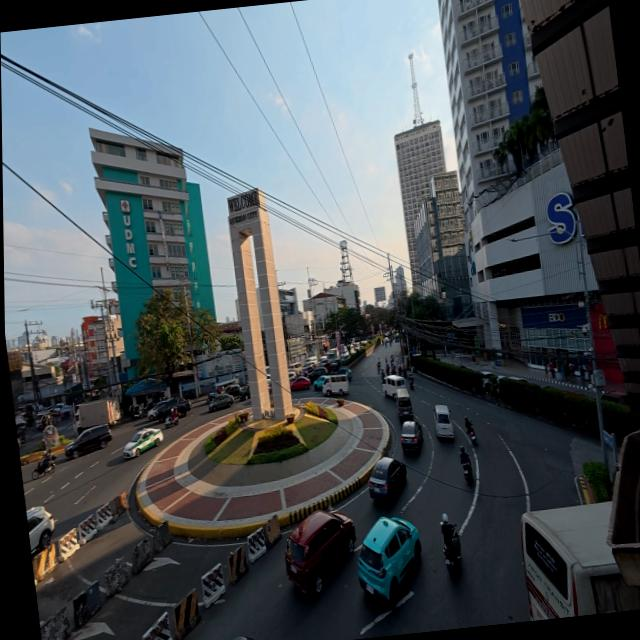bus: (521, 502, 639, 620)
car: (285, 510, 356, 593), (358, 517, 421, 607), (369, 457, 407, 503), (65, 425, 112, 458), (27, 506, 54, 552), (124, 428, 163, 458), (148, 398, 192, 422), (401, 421, 424, 452), (482, 371, 504, 393), (209, 393, 233, 412), (148, 400, 169, 420), (34, 411, 53, 430), (290, 376, 311, 390), (310, 367, 329, 382), (312, 374, 328, 390), (222, 384, 240, 398), (337, 367, 353, 380), (508, 375, 530, 384), (240, 385, 251, 401), (320, 361, 332, 373), (206, 391, 218, 403), (303, 365, 314, 377), (331, 359, 340, 372), (288, 371, 297, 382), (234, 636, 253, 639), (17, 438, 21, 447)
motorcycle: (443, 542, 460, 576), (32, 457, 55, 479), (463, 462, 472, 485), (165, 416, 178, 428), (133, 406, 144, 419), (469, 429, 477, 446), (409, 379, 414, 389), (377, 362, 381, 373)
trucks: (73, 398, 120, 434)
vans: (434, 405, 453, 438), (323, 374, 349, 396), (396, 388, 413, 421), (383, 375, 406, 398)
